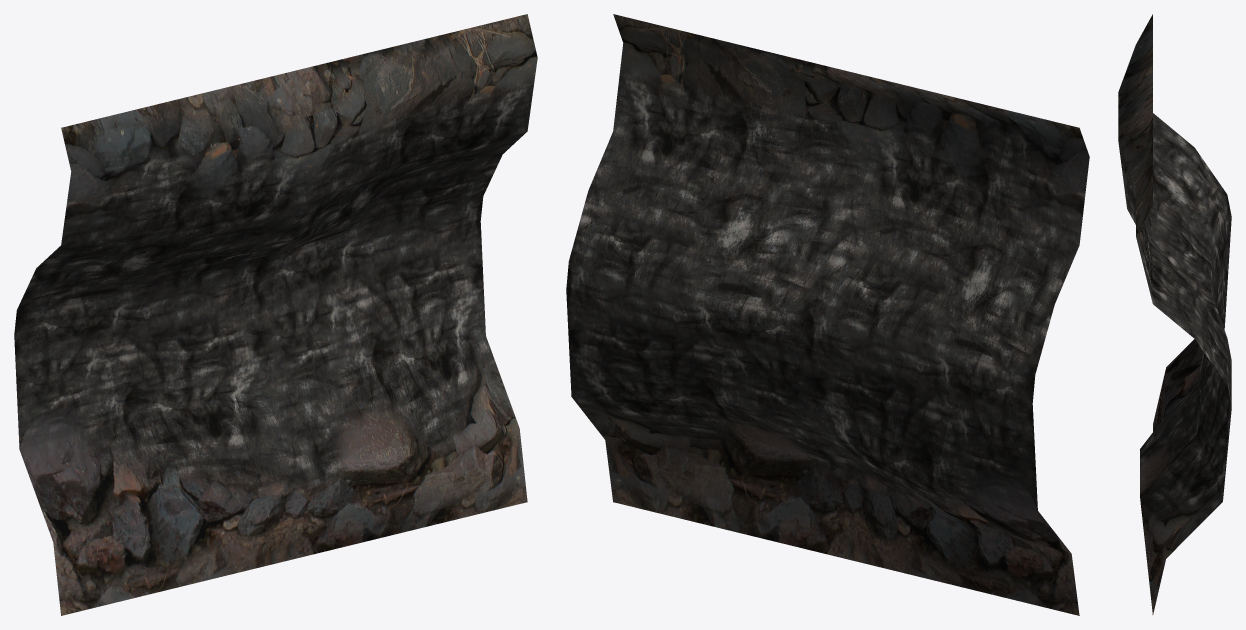
File: CaveWall02.DAE
3 renders of one model, left to right at view 1: azimuth 30°, elevation 25°; view 2: azimuth 150°, elevation 25°; view 3: azimuth 270°, elevation 25°, orthographic. The views are drawn at different scales.
Parts seen in each view (by area): view 1: mansionbase_default; view 2: mansionbase_default; view 3: mansionbase_default.
Part boxes in pixels (<box>): mansionbase_default: <box>14,14,537,615</box>; mansionbase_default: <box>566,14,1089,615</box>; mansionbase_default: <box>1118,14,1231,614</box>.
Bounding box in the file's own units: 4 × 4 × 1.
